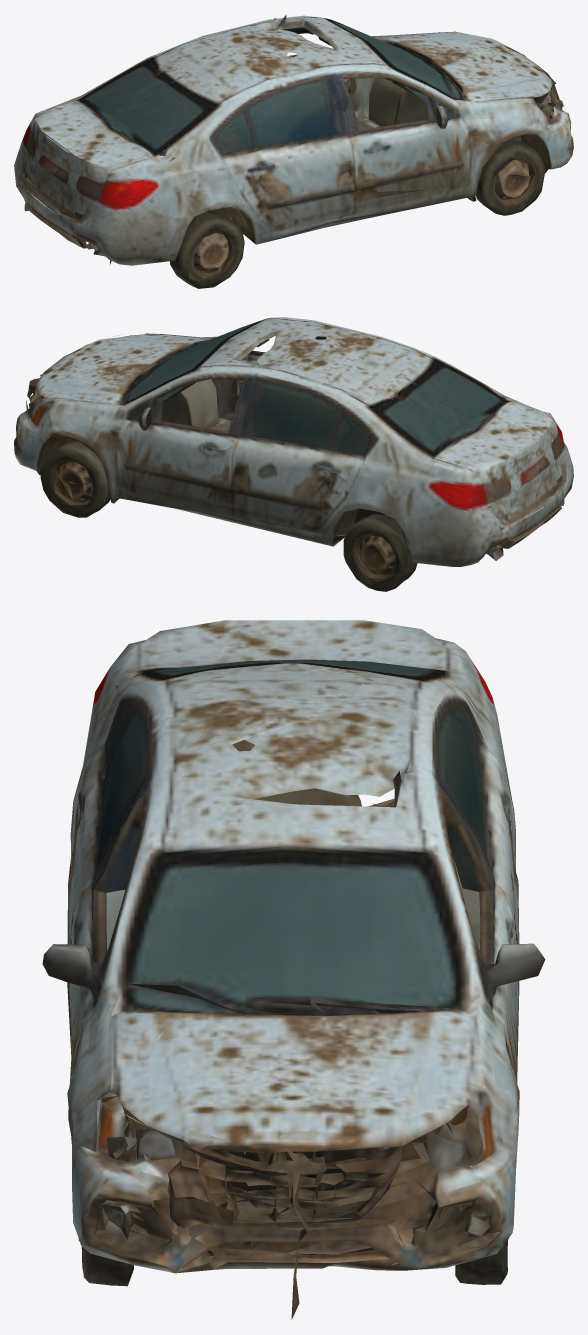
Rendered from skyways-wreck-sedan-rust.glb.
The picture shows the model from 3 angles, top to bottom: view 1: azimuth 30°, elevation 25°; view 2: azimuth 150°, elevation 25°; view 3: azimuth 270°, elevation 25°; orthographic projection. The views are drawn at different scales.
Parts seen in each view (by area): view 1: skyways-wreck-sedan-rust; view 2: skyways-wreck-sedan-rust; view 3: skyways-wreck-sedan-rust.
Part boxes in pixels (x1,y1,x2,y2): skyways-wreck-sedan-rust: [14, 14, 573, 288]; skyways-wreck-sedan-rust: [14, 317, 573, 591]; skyways-wreck-sedan-rust: [42, 620, 545, 1319].
Bounding box in the file's own units: 4.75 × 1.63 × 2.05.
Materials: 1 (1 with a texture image).
